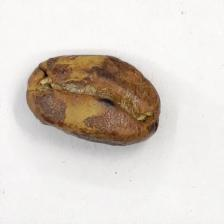NG: (27, 53, 160, 145)
